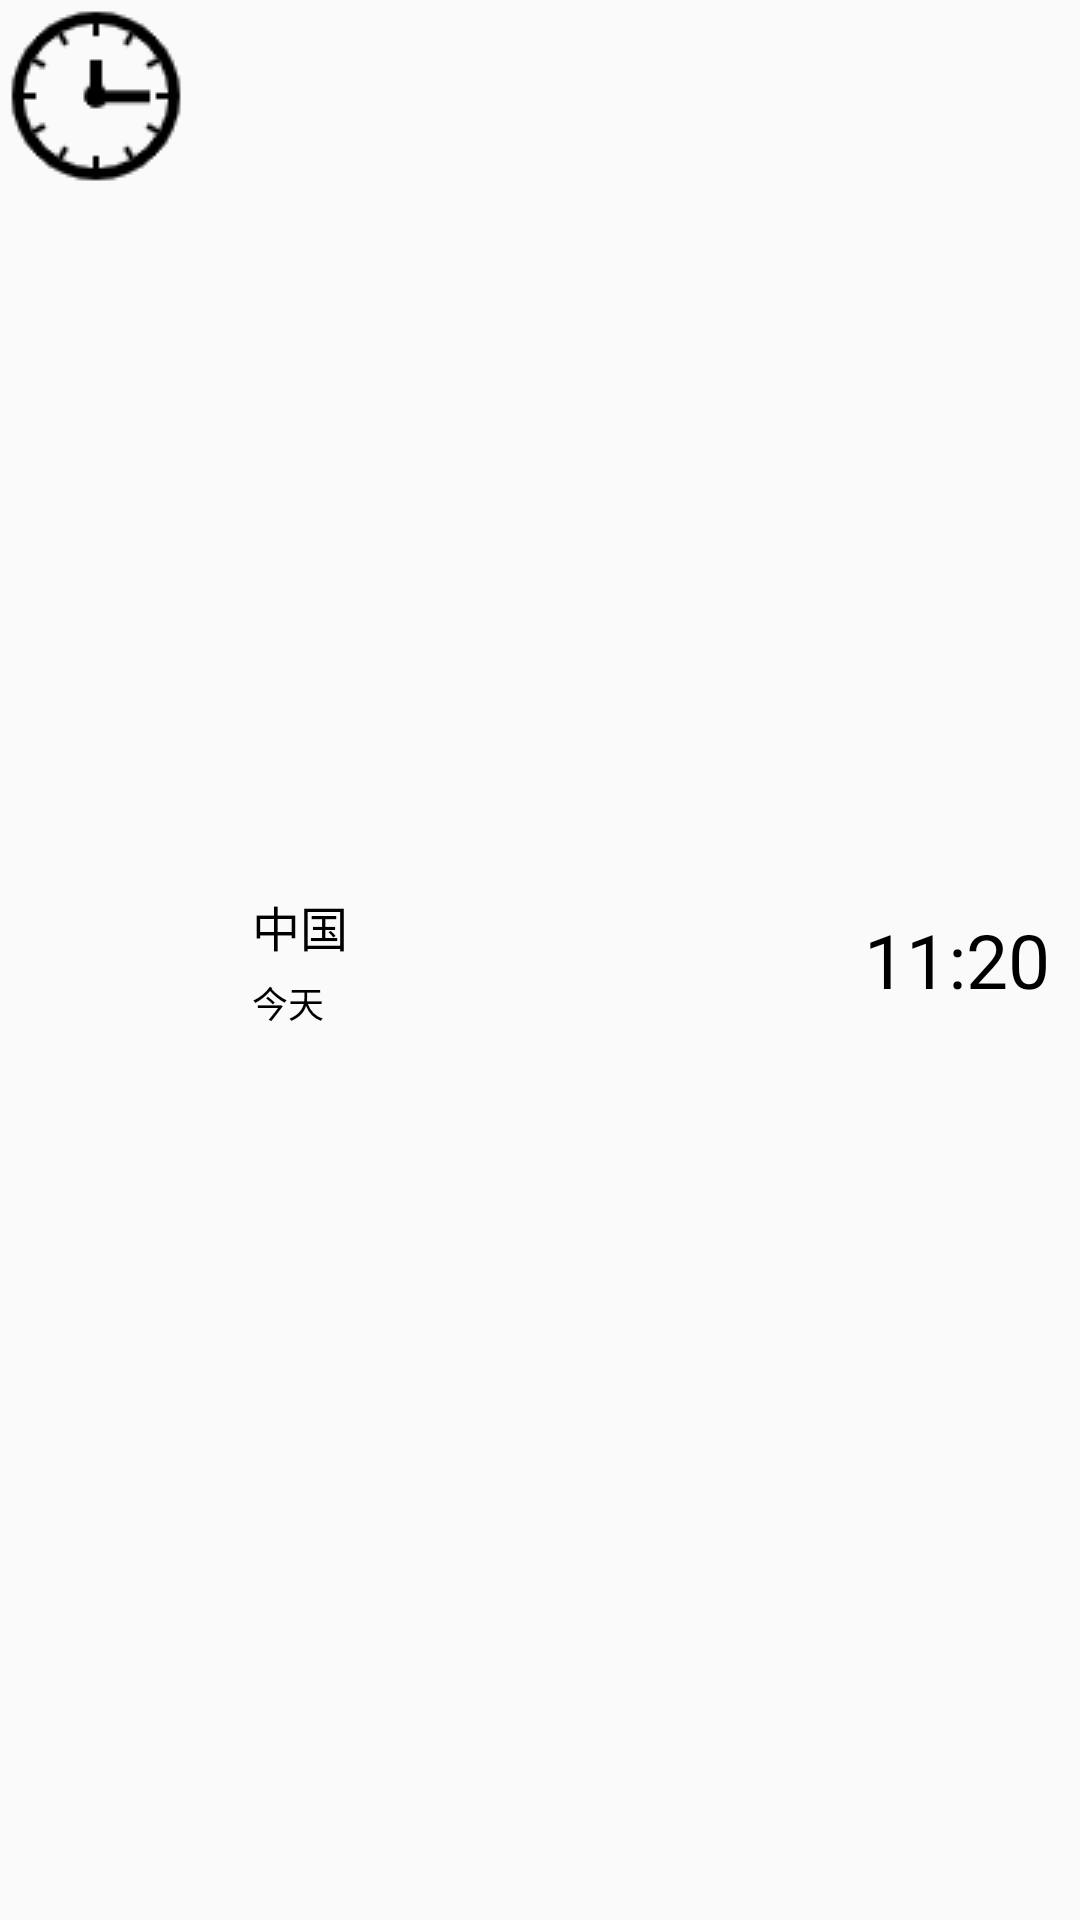

Screen size 1080px x 1920px. Icon name, then its box in pixels as bbox=(x1, y1, x2, y2):
timer: bbox=(11, 11, 181, 181)
